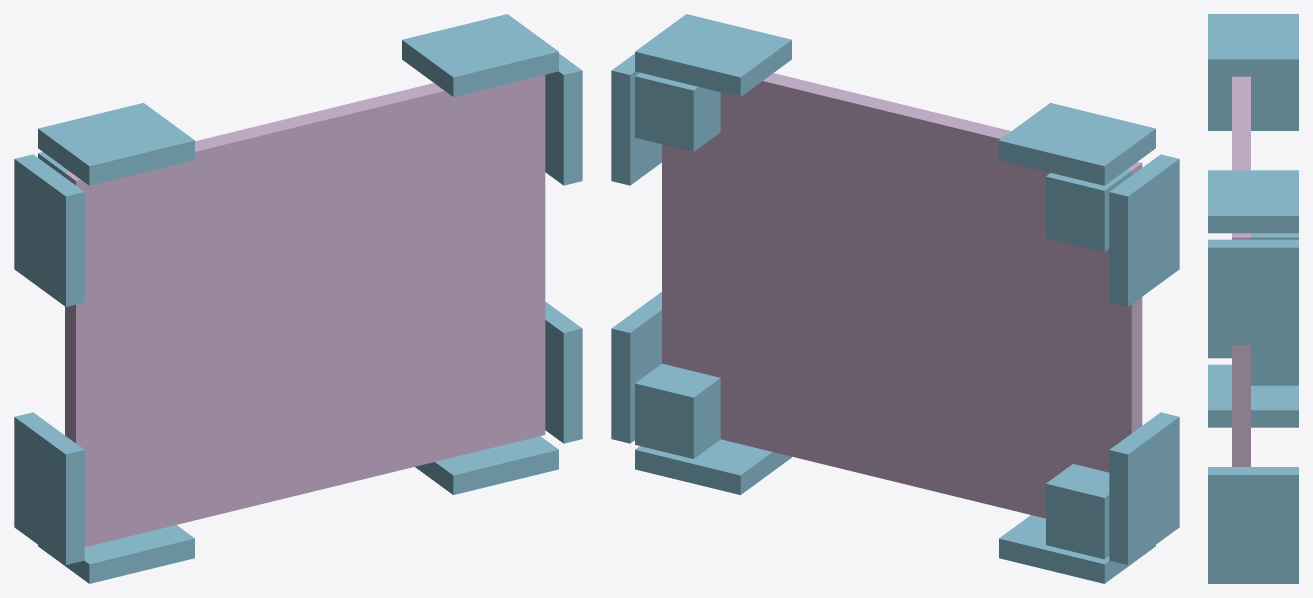
Rendered from board_cradle_demo.glb.
3 renders of one model, left to right at view 1: azimuth 30°, elevation 25°; view 2: azimuth 150°, elevation 25°; view 3: azimuth 270°, elevation 25°, orthographic. The views are drawn at different scales.
Visible parts, largest first — view 1: board_reference, corner_cradles; view 2: board_reference, corner_cradles; view 3: corner_cradles, board_reference.
Part boxes in pixels (left/top/right/bottom): board_reference: left=65, top=75, right=545, bottom=546; corner_cradles: left=14, top=14, right=582, bottom=583; board_reference: left=662, top=73, right=1142, bottom=518; corner_cradles: left=611, top=14, right=1179, bottom=583; corner_cradles: left=1208, top=14, right=1298, bottom=583; board_reference: left=1232, top=76, right=1250, bottom=466.
Size of the model in its own units: 44 by 34 by 7.6.
